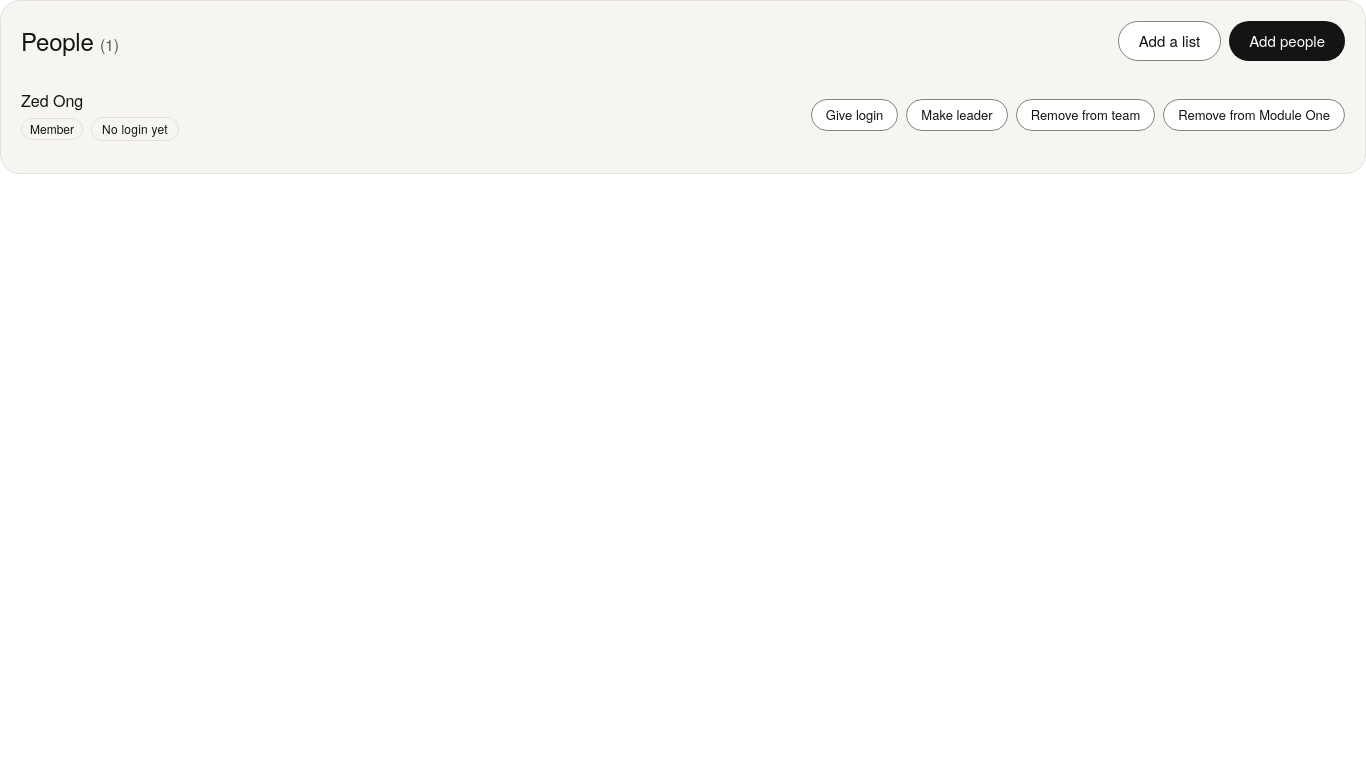
PeopleSection: Remove from Module One › tells someone without a login they may be deleted completely, without saying they'll stop signing in
What coordinates should you click on to do the following:
click the button "Remove from Module One"
I would click on:
 (1254, 115)
Its box is [1163,99,1345,131].
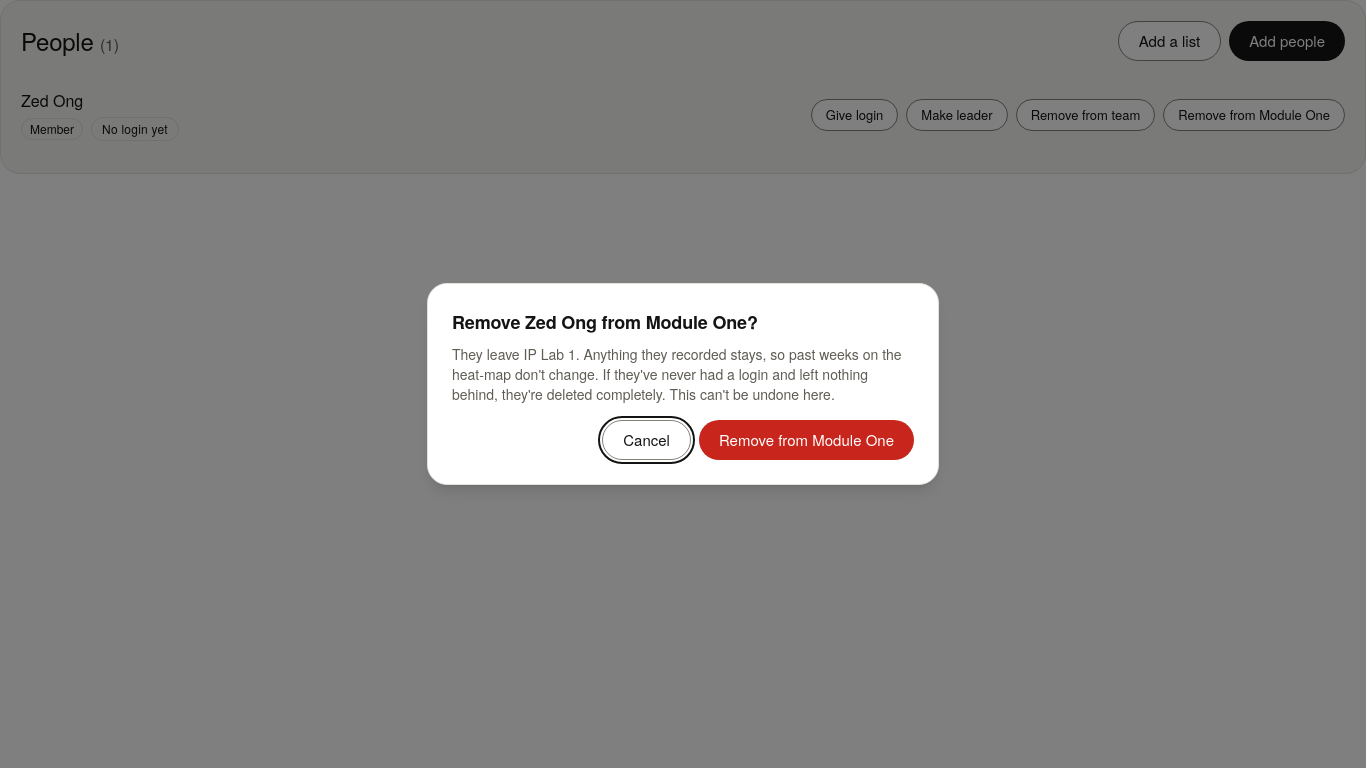
Expected: the dialog shows "If they've never had a login and left nothing behind, they're deleted completely.", [452,344,902,404]
